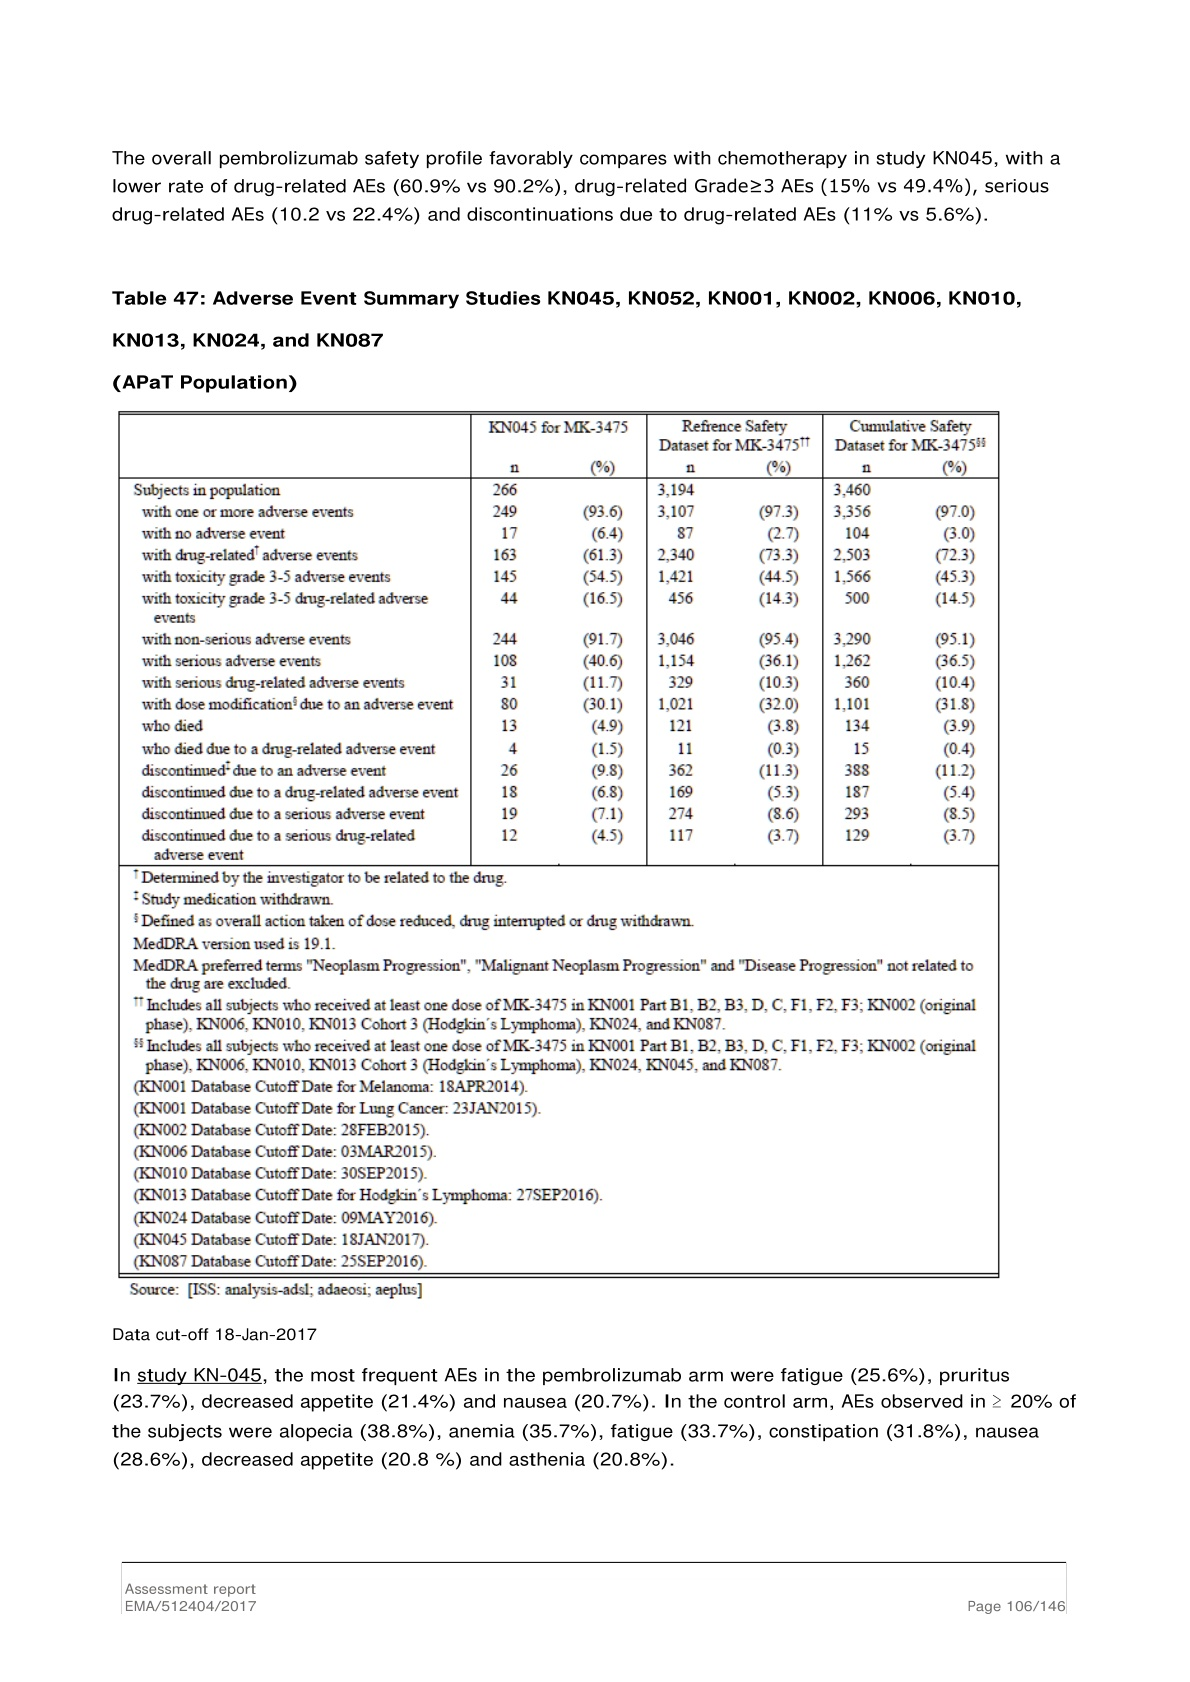partial_lined_merged_cells: (116, 410, 1001, 1279)
